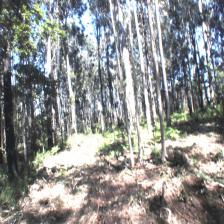trunktrack_idkeyframe: (3, 82, 17, 166), (156, 92, 166, 147), (124, 118, 134, 166), (163, 76, 170, 127)
